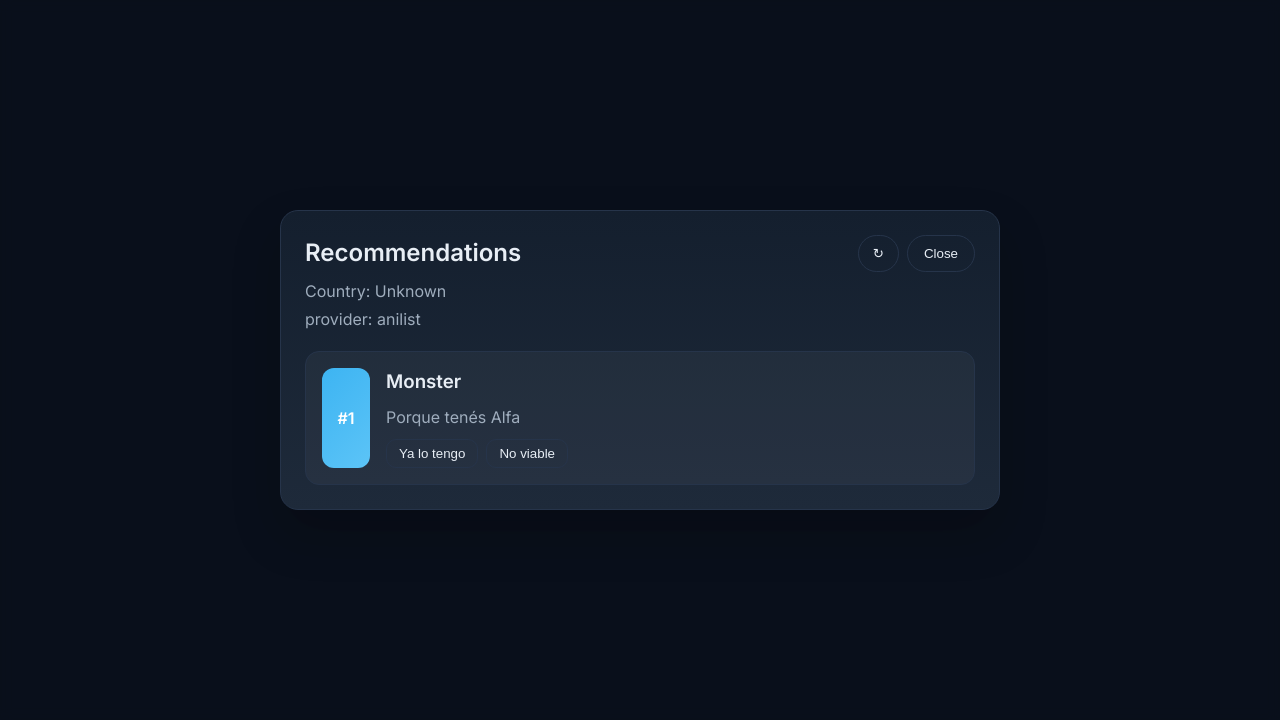
RecommendationModal · feedback AniList › muestra un error si falla el descarte
This screenshot has width=1280, height=720.
Click the button "No viable" at (527, 453), box [486,438,568,468]
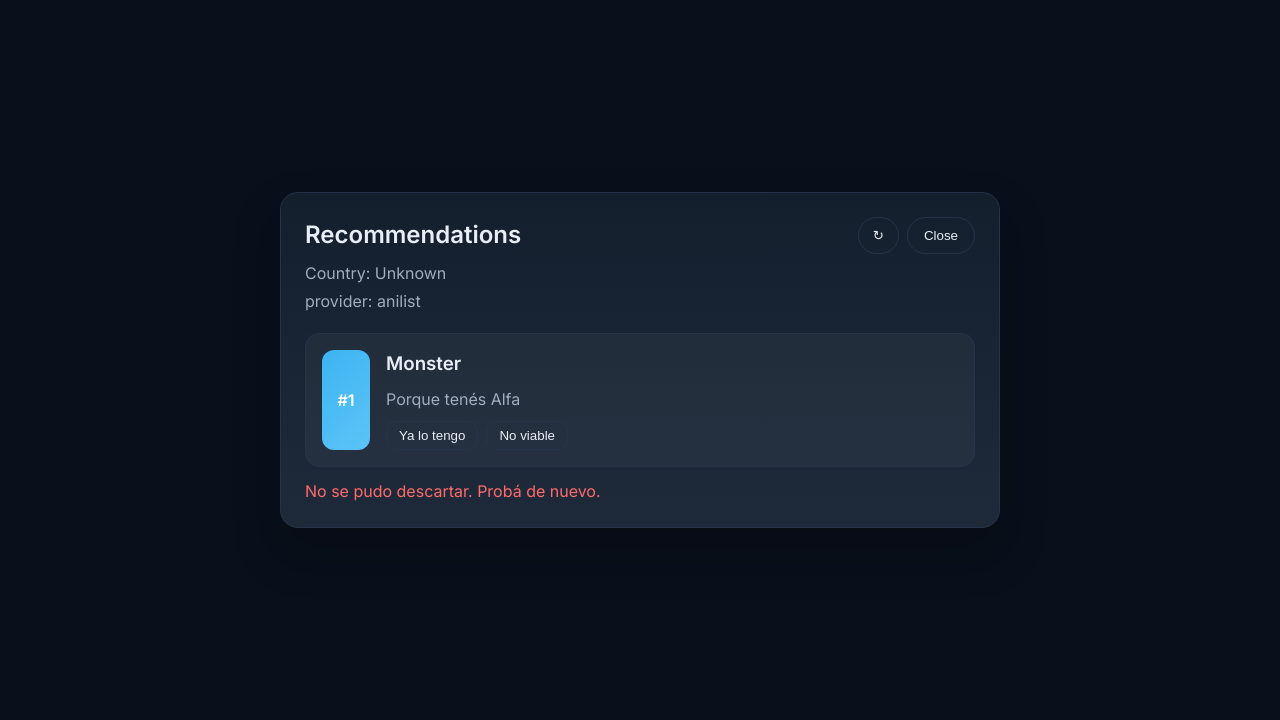
Now the text "No se pudo descartar. Probá de nuevo." is shown, box [305,480,601,500]
